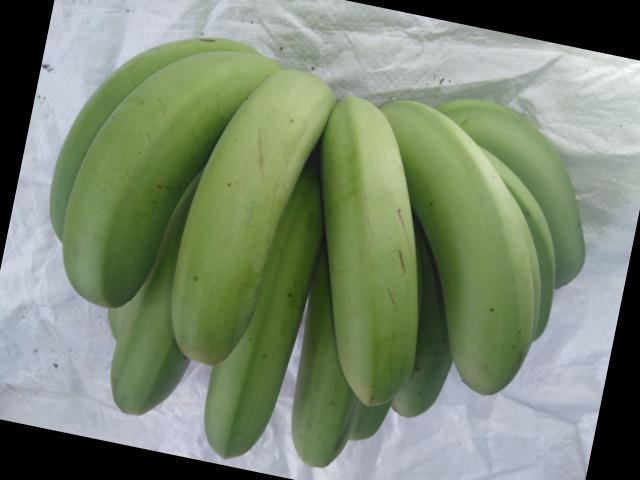freshunripe: (167, 58, 331, 367), (390, 85, 538, 415), (48, 40, 216, 308), (310, 71, 435, 410), (184, 279, 290, 463), (279, 306, 360, 471), (103, 275, 194, 418)
